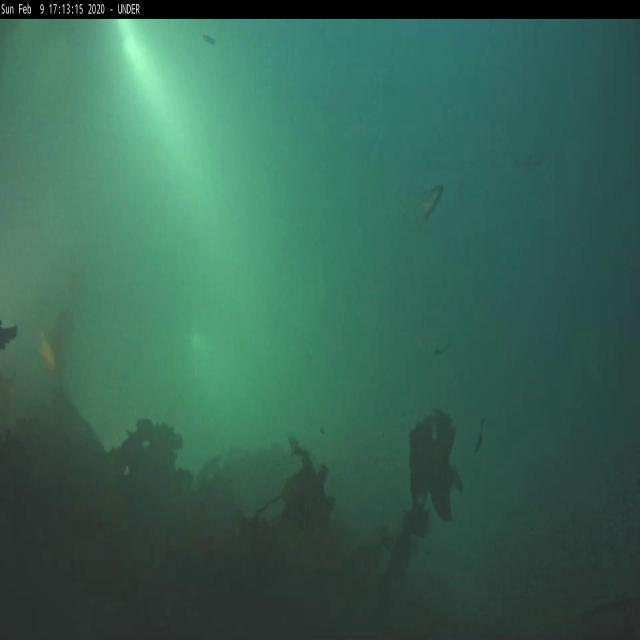fish: (421, 184, 444, 224)
